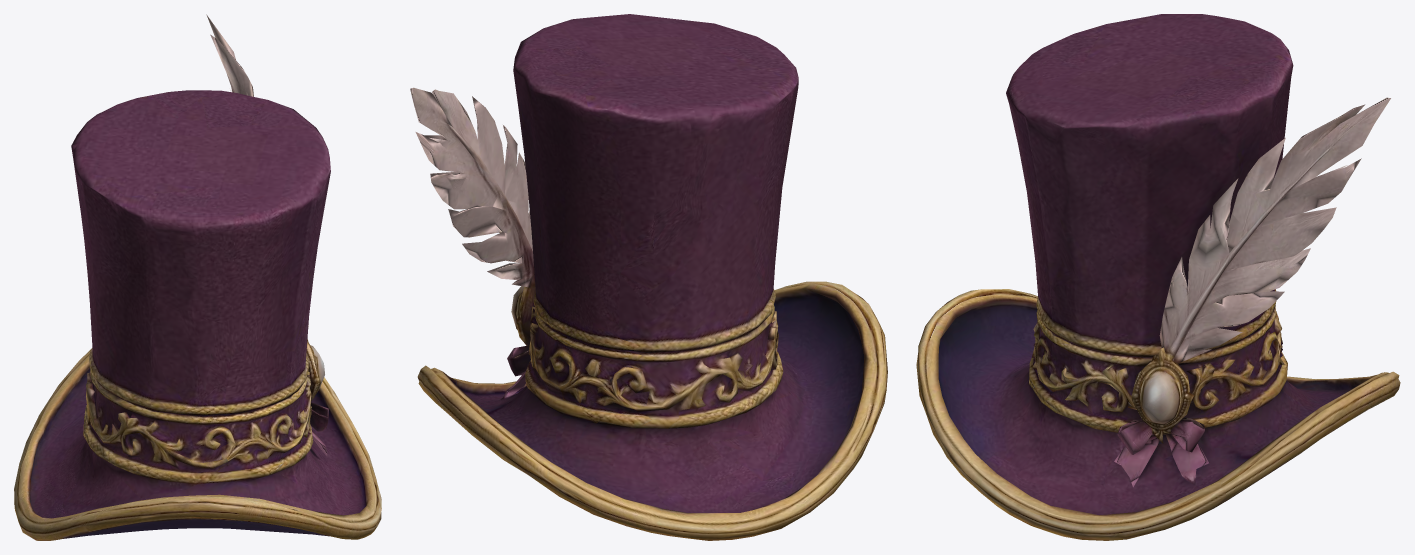
The model's file is top_hat.glb.
The picture shows the model from 3 angles, left to right: view 1: azimuth 30°, elevation 25°; view 2: azimuth 150°, elevation 25°; view 3: azimuth 270°, elevation 25°; orthographic projection. The views are drawn at different scales.
Visible parts, largest first — view 1: tripo_node_a632d2f5-89d9-48cb-bb41-3e1649524d12; view 2: tripo_node_a632d2f5-89d9-48cb-bb41-3e1649524d12; view 3: tripo_node_a632d2f5-89d9-48cb-bb41-3e1649524d12.
Boxes of the visible parts, x1,y1,x2,y2 form: tripo_node_a632d2f5-89d9-48cb-bb41-3e1649524d12: (14,14,381,540); tripo_node_a632d2f5-89d9-48cb-bb41-3e1649524d12: (410,14,887,540); tripo_node_a632d2f5-89d9-48cb-bb41-3e1649524d12: (916,14,1400,540).
Size of the model in its own units: 0.8737 by 0.975 by 1.
1 material, 1 textured.
